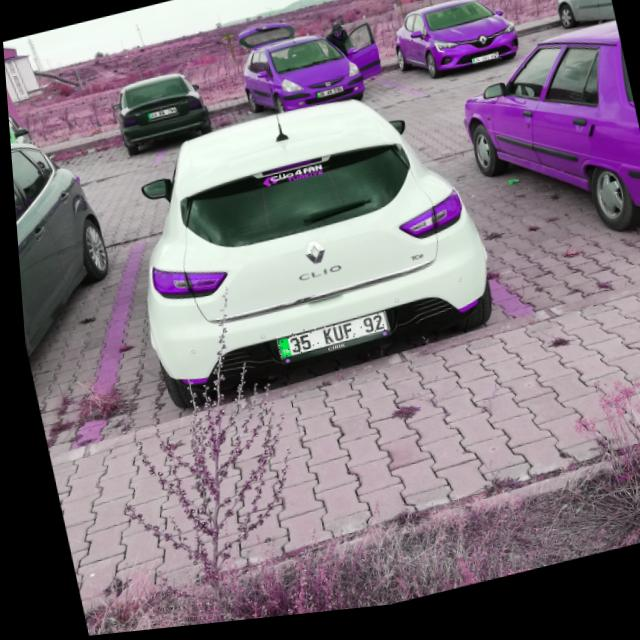license_plate: (269, 317, 384, 364), (145, 110, 175, 122), (314, 93, 342, 105), (470, 63, 497, 74)
